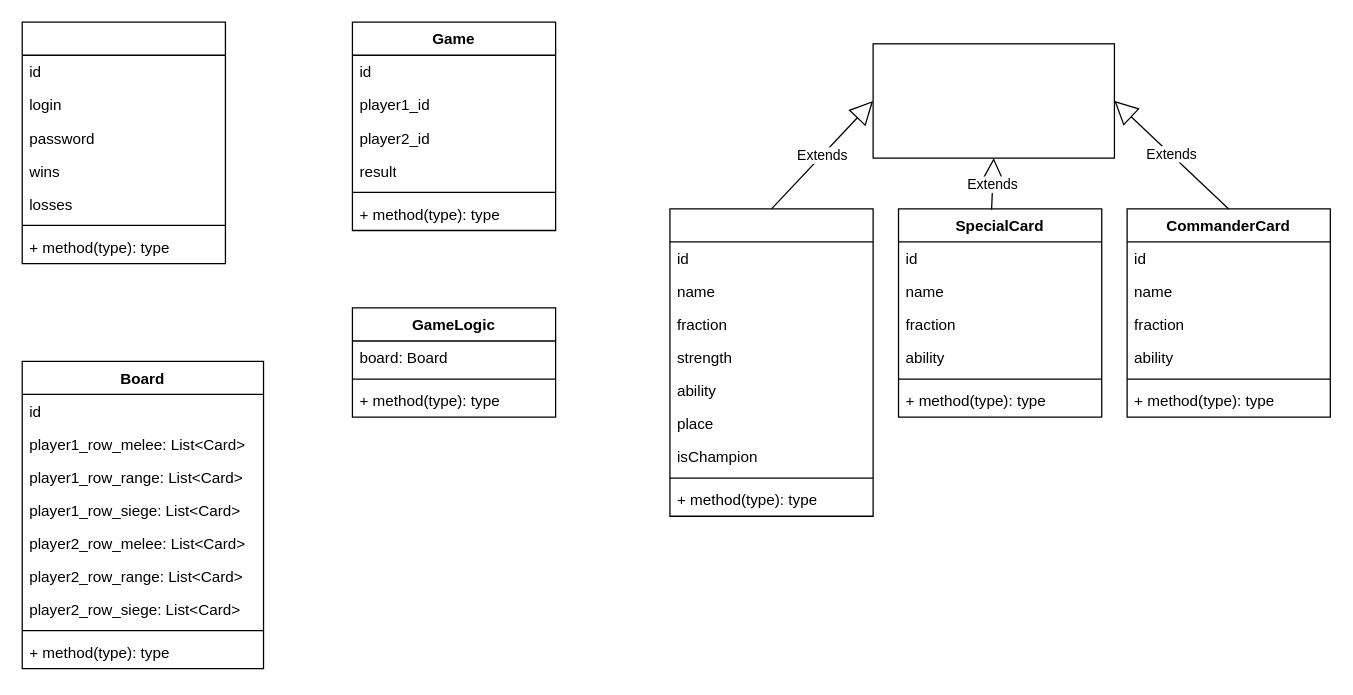
The diagram is 1353 pixels wide and 695 high, and some of its shapes have lost their labels. The shapes that lost their labels are listed below. From the top down, each one's box as (x1, y1, x2, y2) in pixels, then its label:
(872, 43, 1114, 158): <<Interface>> ICard + id + name + fraction
(21, 21, 225, 264): Player
(669, 208, 873, 516): Card
